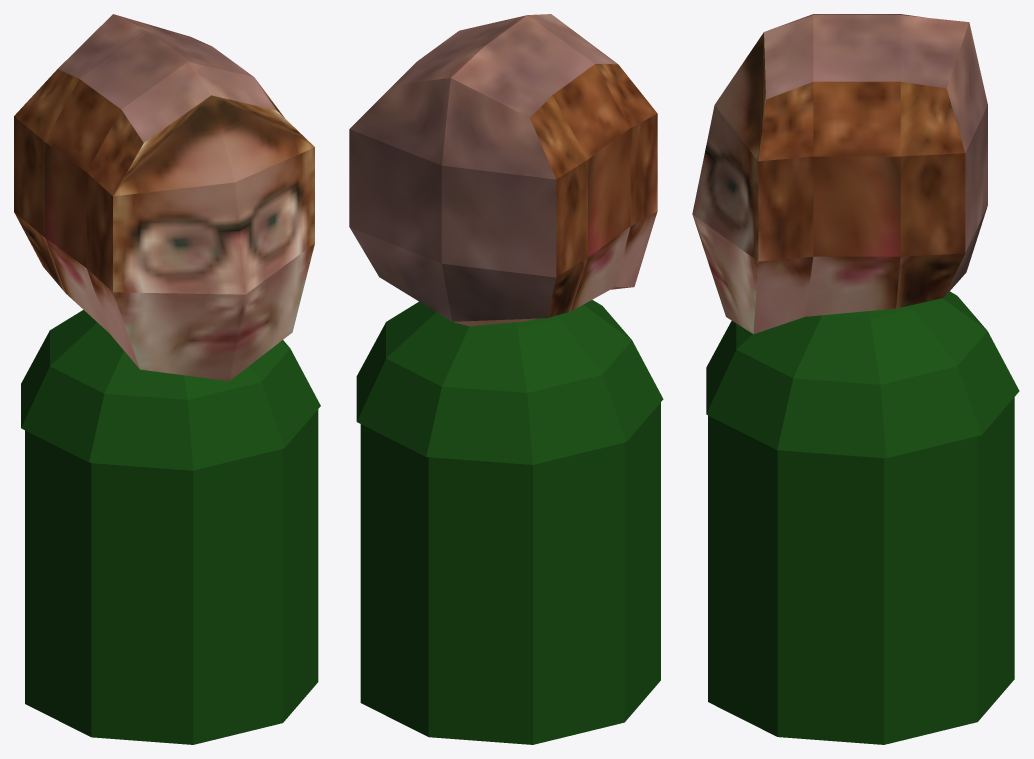
File: peasant.fbx
3 renders of one model, left to right at view 1: azimuth 30°, elevation 25°; view 2: azimuth 150°, elevation 25°; view 3: azimuth 270°, elevation 25°, orthographic. The views are drawn at different scales.
Parts seen in each view (by area): view 1: Cube; view 2: Cube; view 3: Cube.
Boxes of the visible parts, x1,y1,x2,y2 form: Cube: [14, 14, 320, 744]; Cube: [349, 14, 663, 744]; Cube: [692, 14, 1019, 744].
Size of the model in its own units: 192 by 442 by 197.
2 materials, 1 textured.
